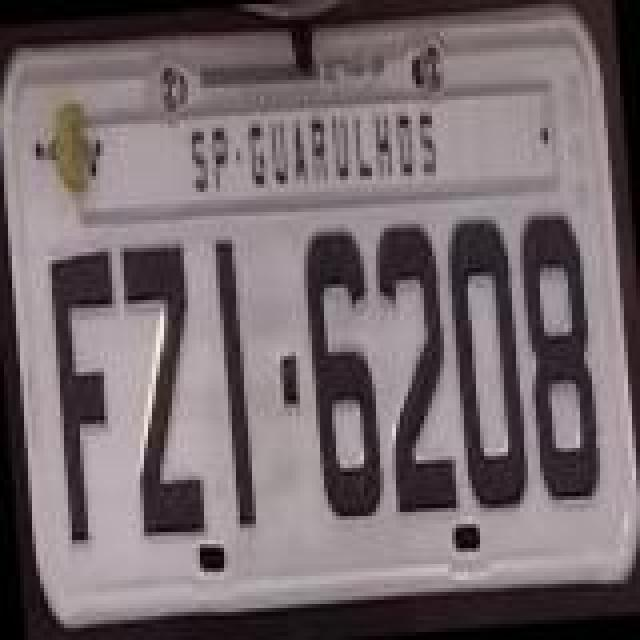1: (212, 236, 260, 532)
2: (372, 220, 460, 516)
6: (298, 226, 390, 526)
8: (514, 212, 606, 508)
F: (42, 248, 134, 544)
O: (442, 212, 534, 516)
Z: (114, 238, 206, 538)
